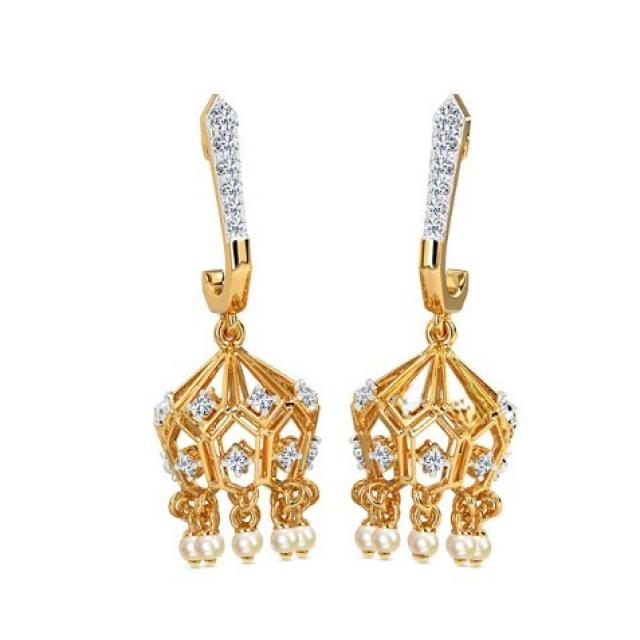missing gem: (397, 388, 426, 417), (446, 395, 477, 419)
